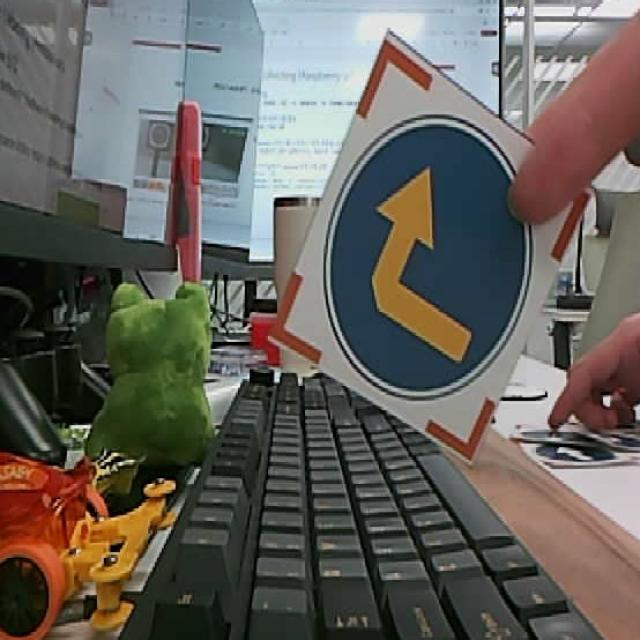turn: (263, 30, 594, 463)
